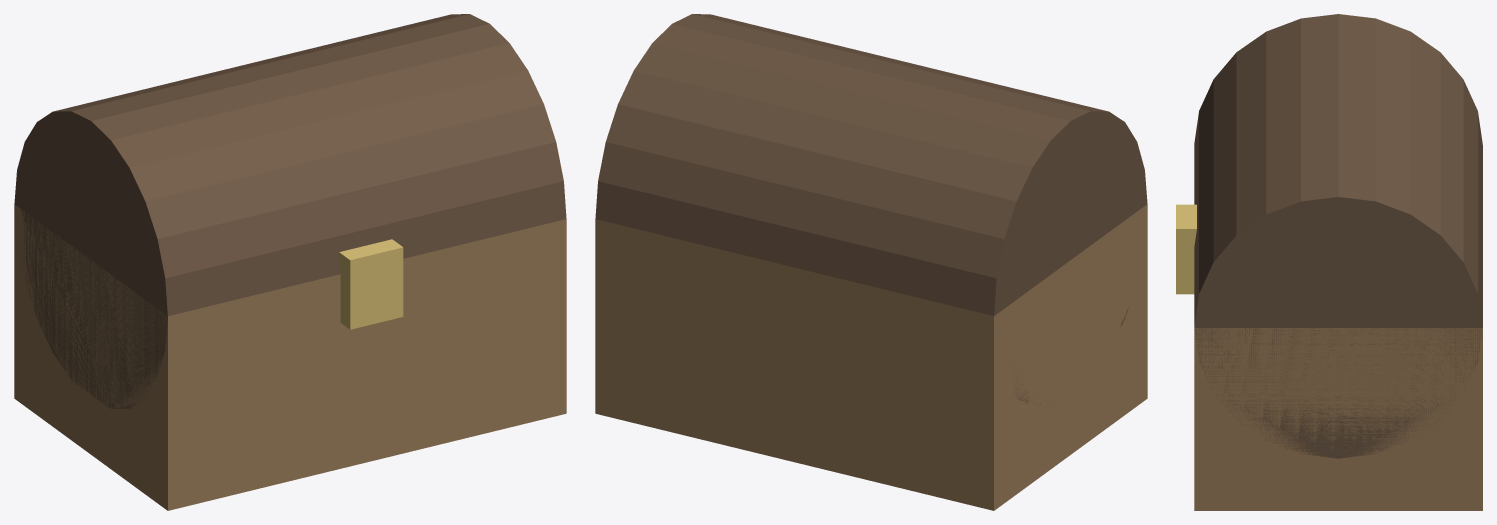
File: treasure-chest.glb
3 renders of one model, left to right at view 1: azimuth 30°, elevation 25°; view 2: azimuth 150°, elevation 25°; view 3: azimuth 270°, elevation 25°, orthographic. The views are drawn at different scales.
Visible parts, largest first — view 1: treasure-chest; view 2: treasure-chest; view 3: treasure-chest.
Boxes of the visible parts, x1,y1,x2,y2 form: treasure-chest: [14, 14, 566, 510]; treasure-chest: [595, 14, 1147, 510]; treasure-chest: [1176, 14, 1482, 510].
Size of the model in its own units: 0.6 by 0.48 by 0.425.
